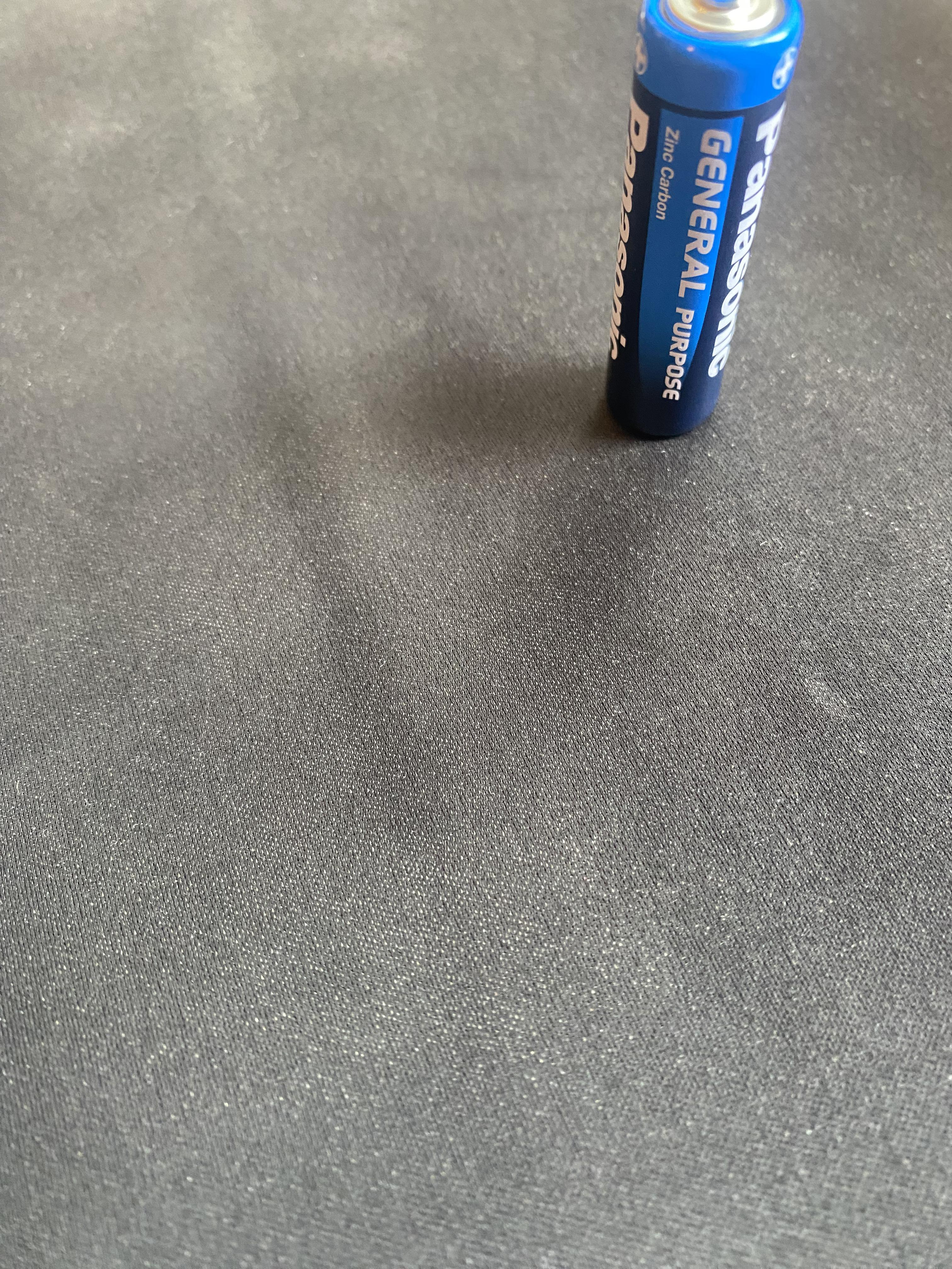AA: (604, 0, 804, 439)
